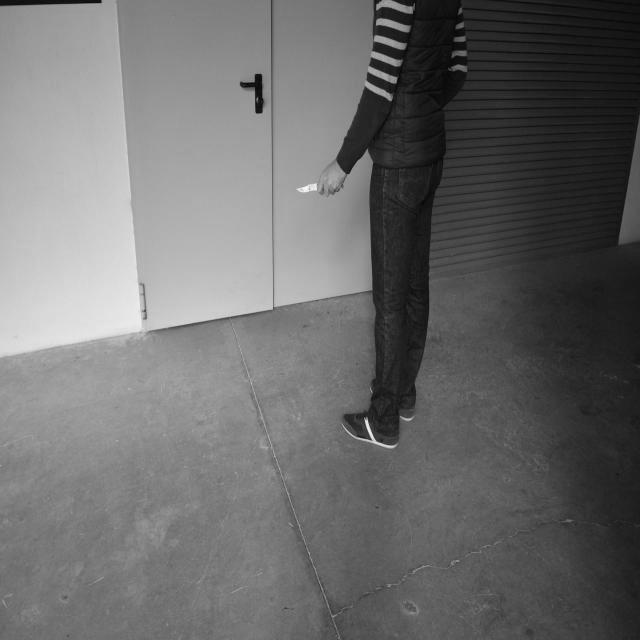knife: (298, 184, 322, 194)
